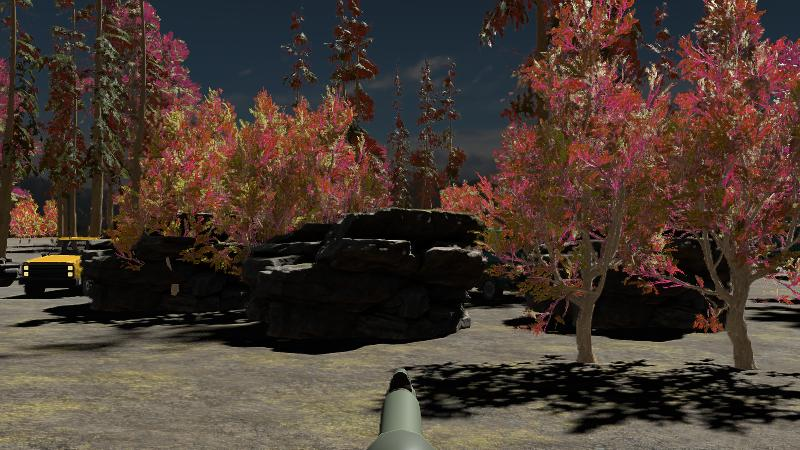Tank: (0, 247, 24, 288)
car: (20, 236, 121, 297)
